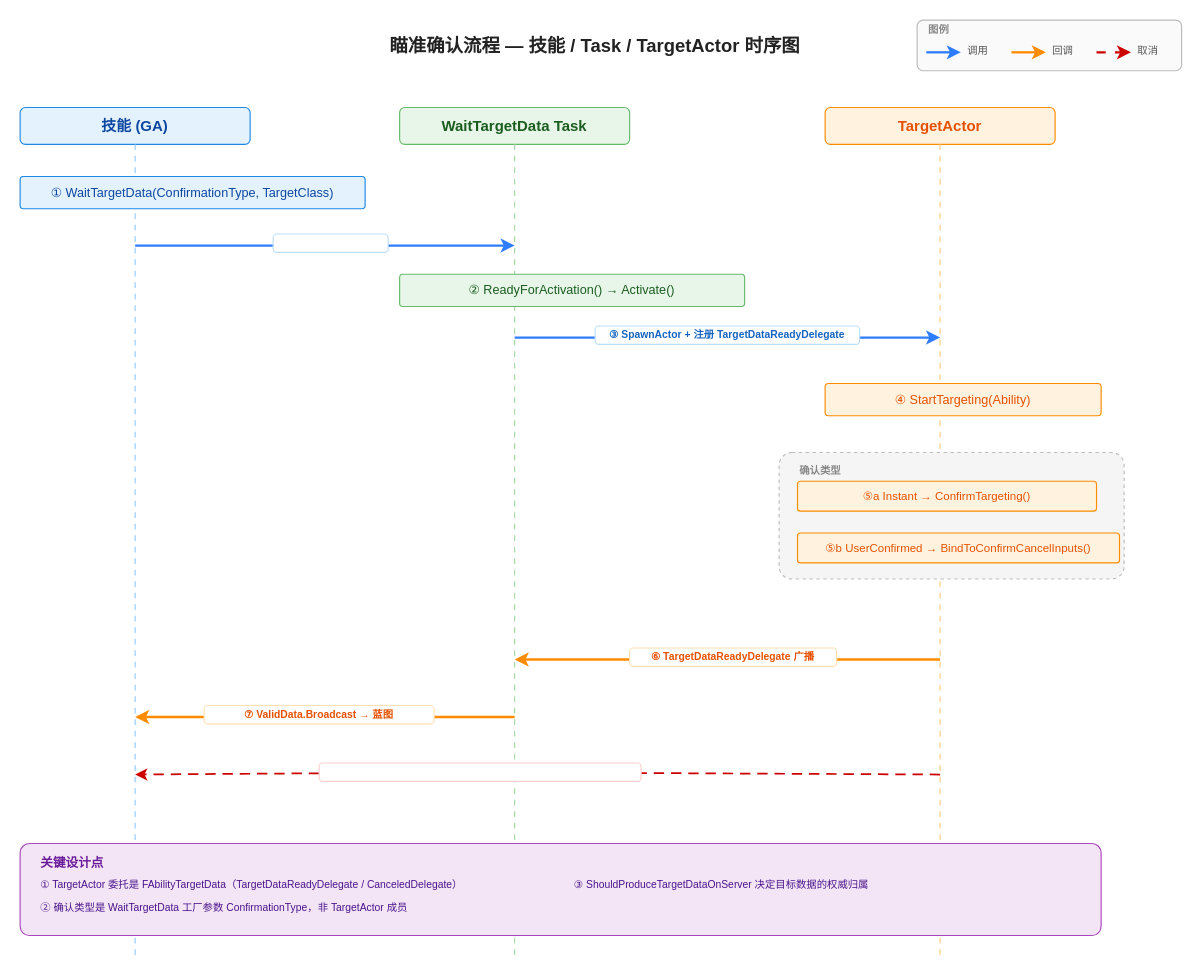
Some shapes in this 1202 by 980 pixel diagram are drawn without their labels. The box of each missing label's shape, as (x1, y1, x2, y2) in pixels:
⑧ CanceledDelegate → Cancelled.Broadcast: (318, 762, 641, 781)
创建 Task: (272, 233, 388, 252)
